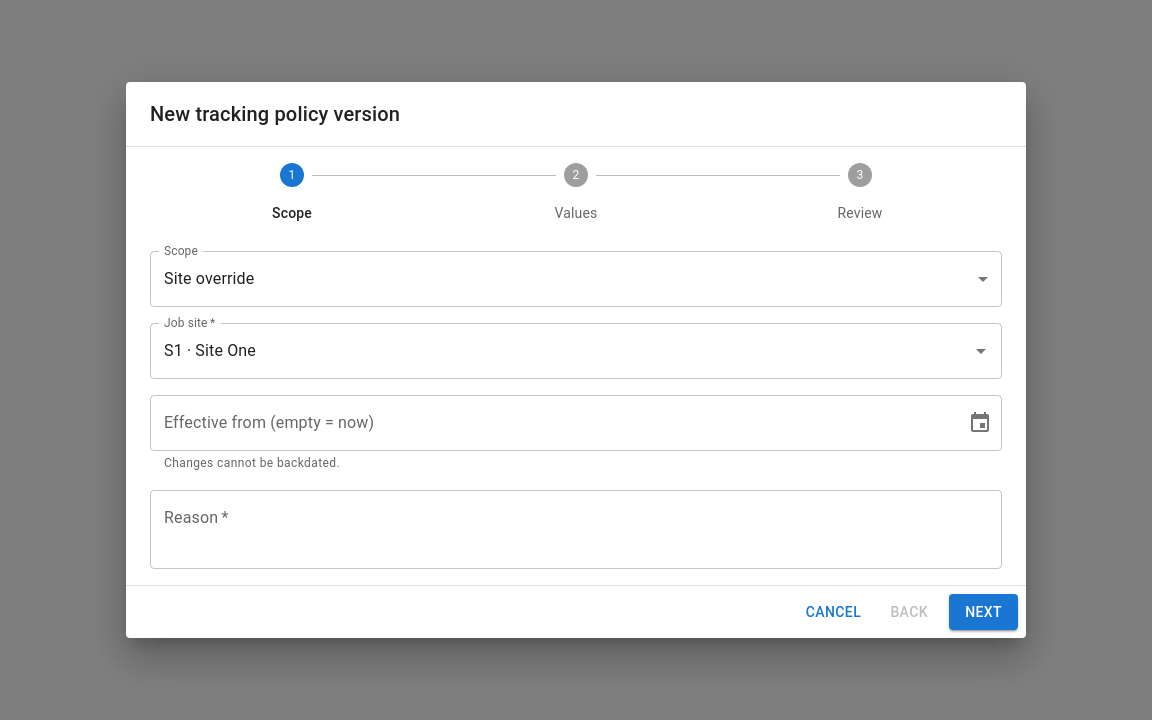
PolicyOverrideDialog › offers only geofence tolerance for a SITE override
Type "Night shift tuning" into the text box labelled "Reason *".
click(576, 529); type("Night shift tuning")  # box [164,506,988,552]
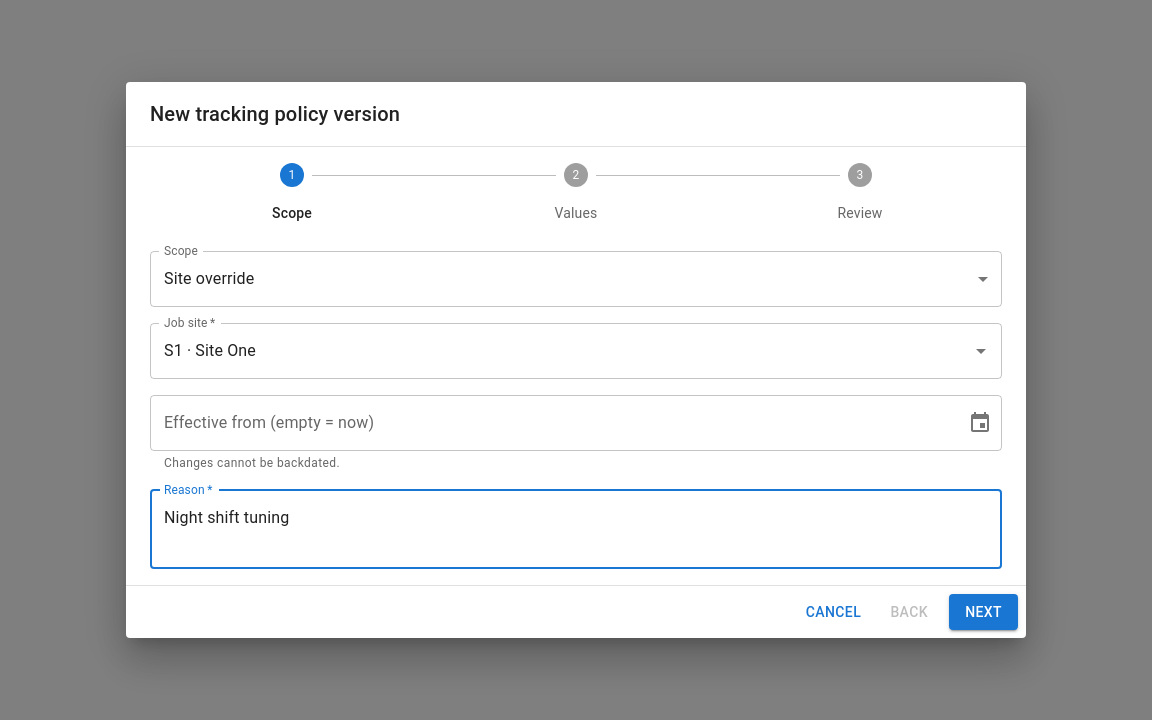
Click the button "Next".
click(984, 612)  # box [949,594,1018,630]
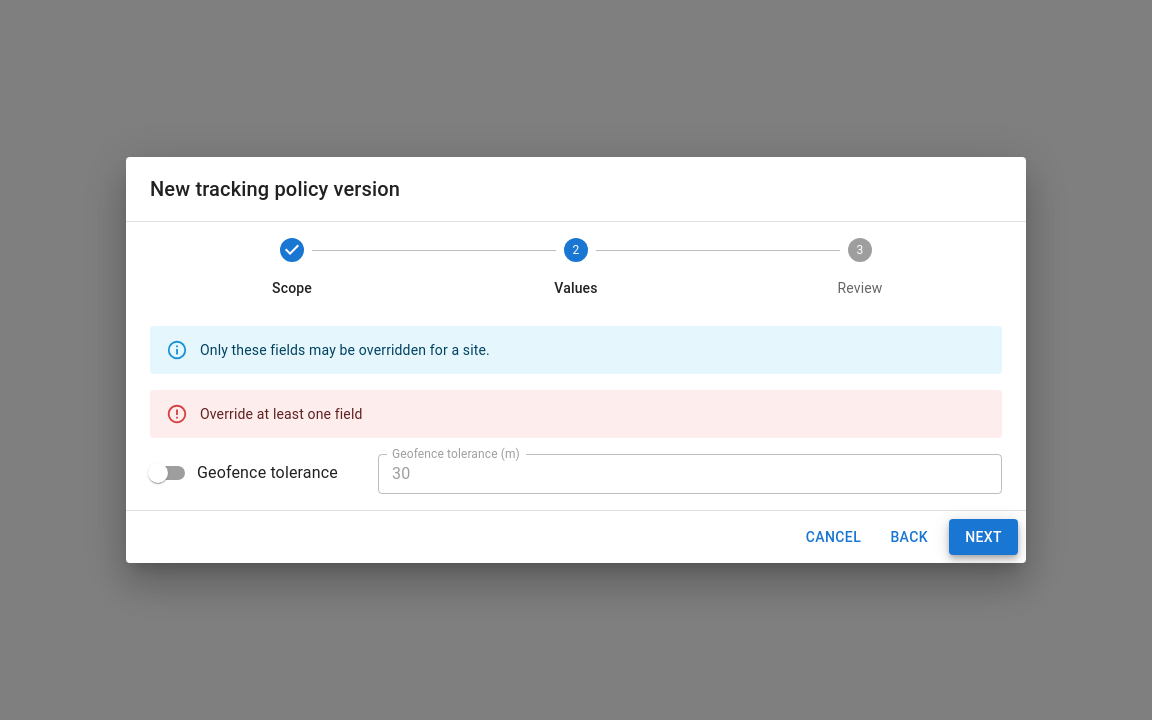
Expected: the switch named "Override Geofence tolerance" is shown, [148,463,338,483]
